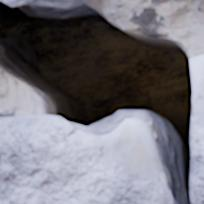broken_brick: (0, 114, 167, 203), (193, 119, 203, 203), (191, 54, 203, 113), (3, 0, 82, 6)
crack: (0, 0, 203, 203)
